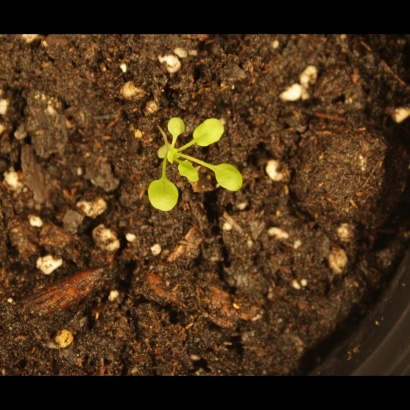leaf: (144, 175, 181, 214), (211, 159, 246, 195), (193, 117, 227, 150), (161, 107, 192, 140), (170, 159, 203, 185), (155, 141, 184, 164)
